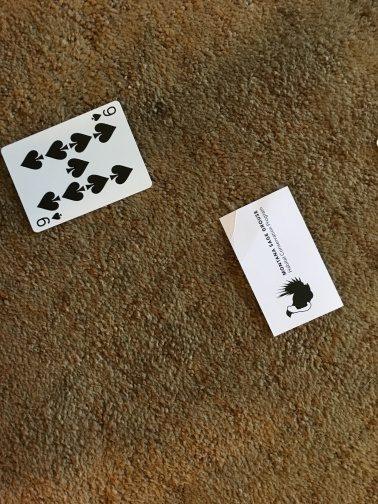nine: (2, 100, 153, 233)
